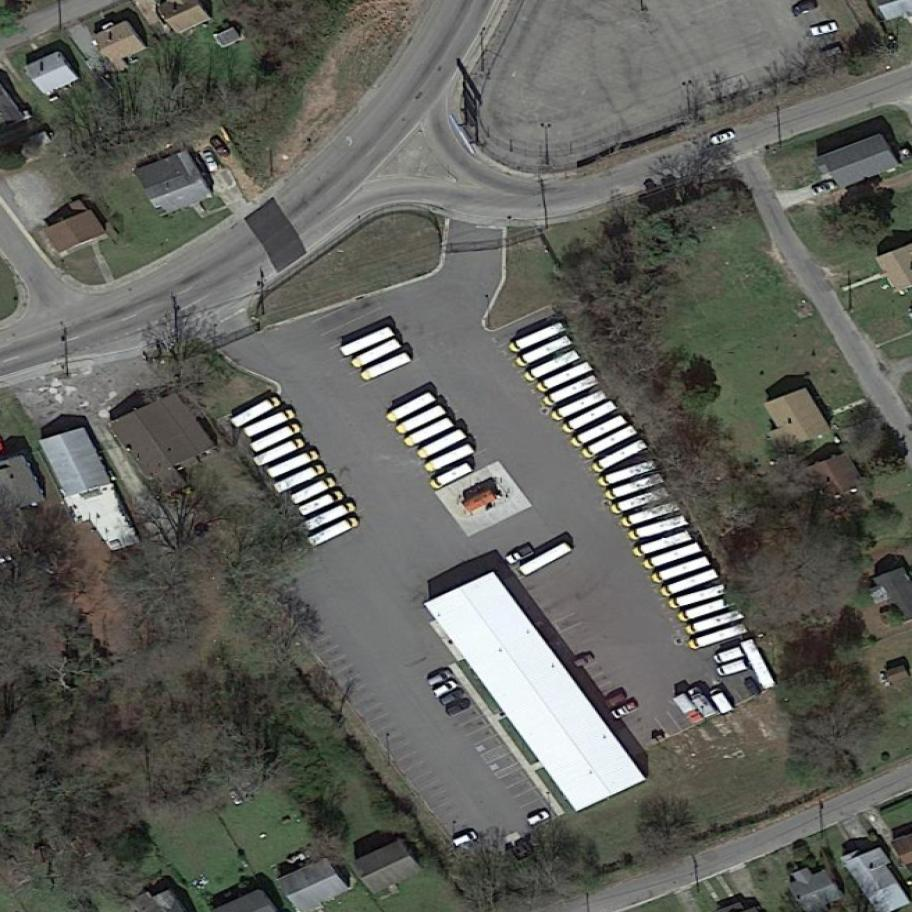large-vehicle: (591, 437, 649, 476), (549, 387, 610, 424), (514, 334, 574, 371), (581, 424, 640, 461), (507, 320, 569, 355), (570, 413, 628, 450), (740, 636, 778, 692), (562, 399, 619, 436), (659, 566, 720, 600), (535, 361, 595, 395), (518, 541, 573, 578), (524, 349, 583, 383), (542, 374, 601, 408), (242, 406, 299, 441), (303, 499, 359, 534), (604, 471, 667, 502), (687, 622, 751, 652), (272, 461, 328, 495), (642, 541, 703, 572), (609, 486, 670, 517), (649, 555, 712, 585), (423, 441, 477, 476), (415, 426, 469, 461), (307, 514, 361, 549), (597, 458, 660, 488), (229, 395, 283, 430), (339, 325, 396, 358), (350, 336, 403, 371), (620, 500, 683, 529), (685, 608, 747, 637), (253, 435, 307, 468), (249, 421, 303, 454), (677, 594, 738, 623), (404, 415, 456, 449), (396, 403, 448, 437), (385, 391, 437, 425), (627, 514, 690, 542), (631, 530, 694, 558), (266, 448, 321, 480), (360, 351, 413, 384), (289, 474, 338, 507), (669, 584, 728, 610), (428, 461, 475, 493), (297, 488, 346, 517)
small-vehicle: (671, 690, 706, 729), (685, 683, 720, 722), (706, 684, 735, 717), (609, 698, 641, 722), (430, 677, 460, 702), (425, 666, 456, 689), (208, 131, 234, 158), (524, 806, 553, 830), (706, 127, 738, 148), (438, 686, 467, 709), (506, 546, 537, 567), (742, 674, 766, 701), (445, 697, 474, 719), (450, 828, 480, 849), (601, 690, 630, 711), (811, 19, 841, 39), (811, 177, 840, 196), (202, 148, 221, 175), (819, 42, 844, 62), (571, 651, 596, 671)
